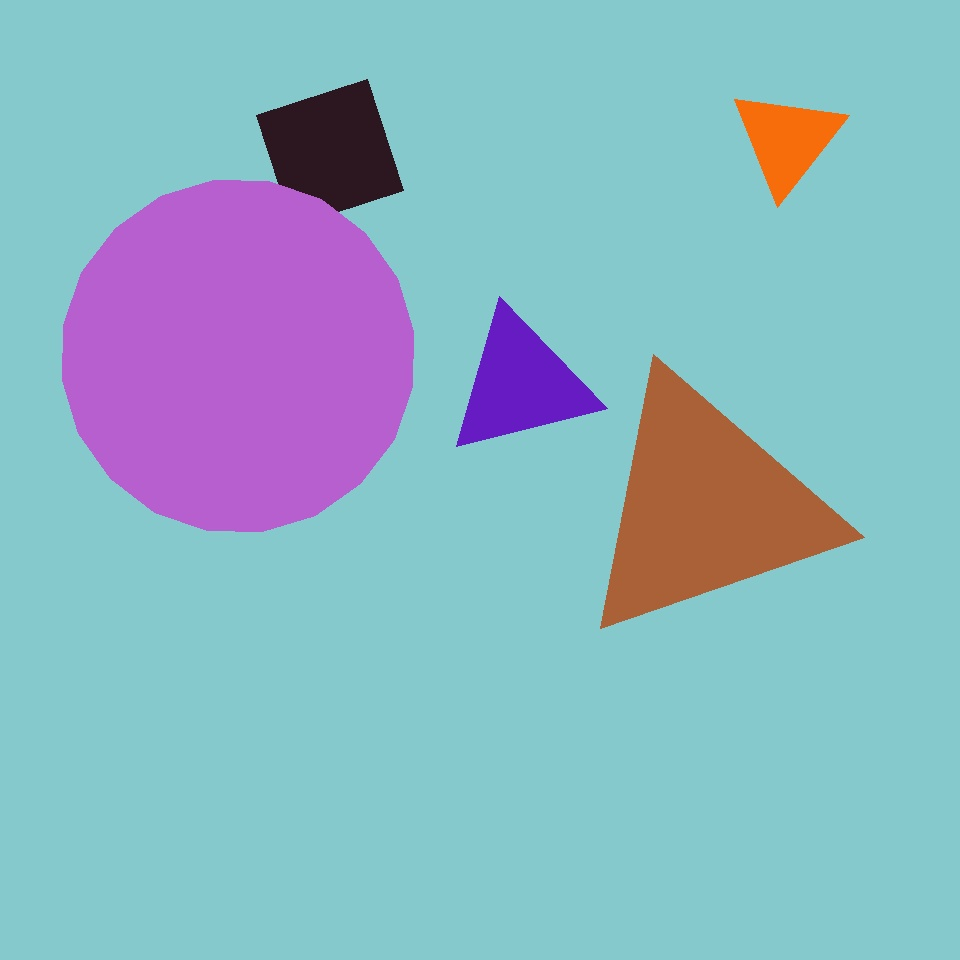circle: (574, 370, 838, 644), (204, 624, 442, 881), (446, 309, 596, 459), (730, 87, 845, 195)
square: (72, 34, 343, 304), (256, 79, 404, 226), (700, 480, 790, 570)
triangle: (63, 181, 414, 532)
